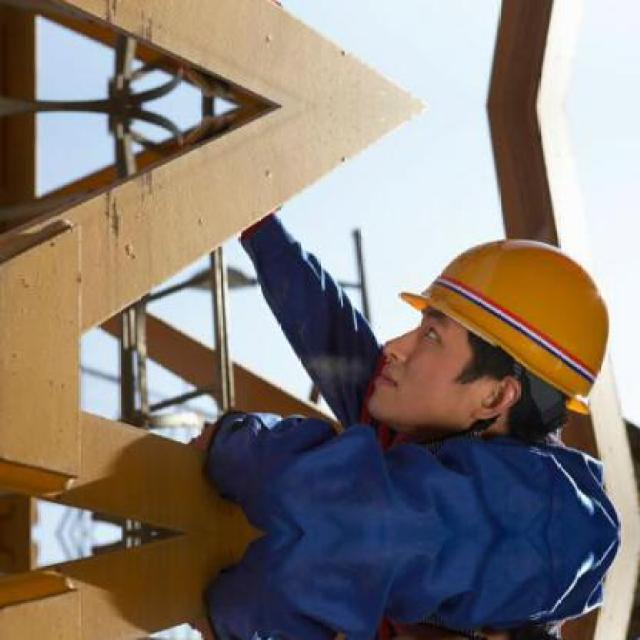helmet: (359, 228, 613, 424)
